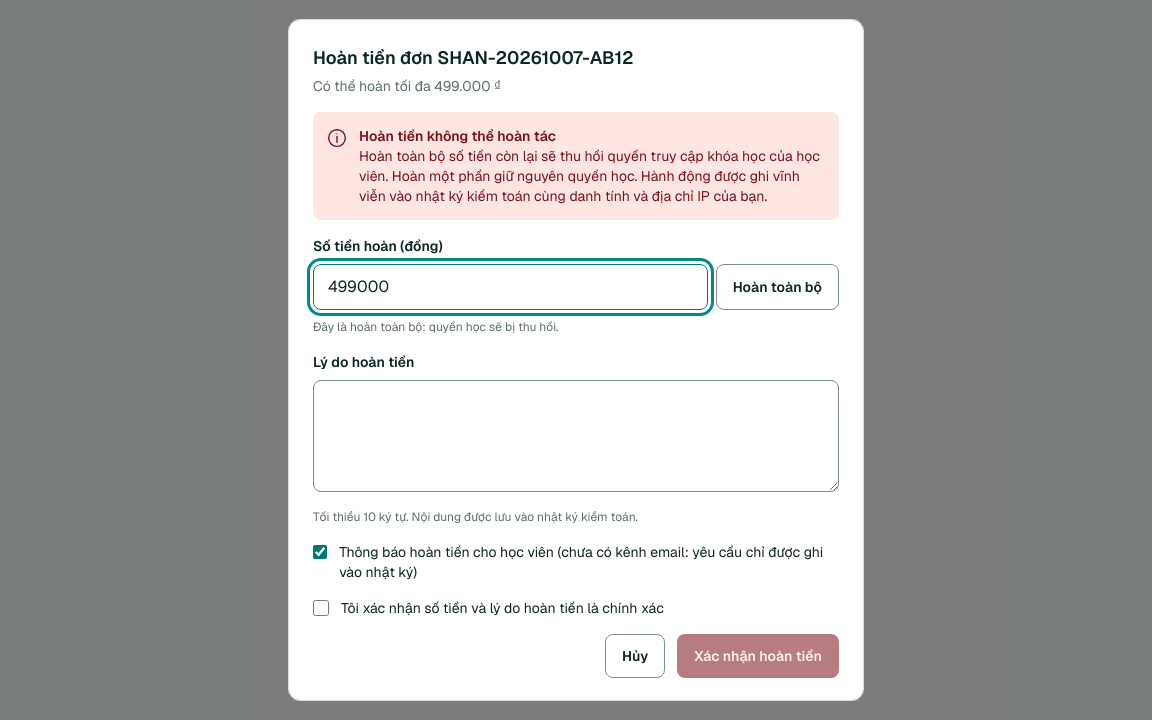
it: RefundModal › sends the amount, reason and notification choice
The width and height of the screenshot is (1152, 720).
Replace the text in the field labelled "Số tiền hoàn (đồng)" with "250000": (510, 287) [313,264,708,310]
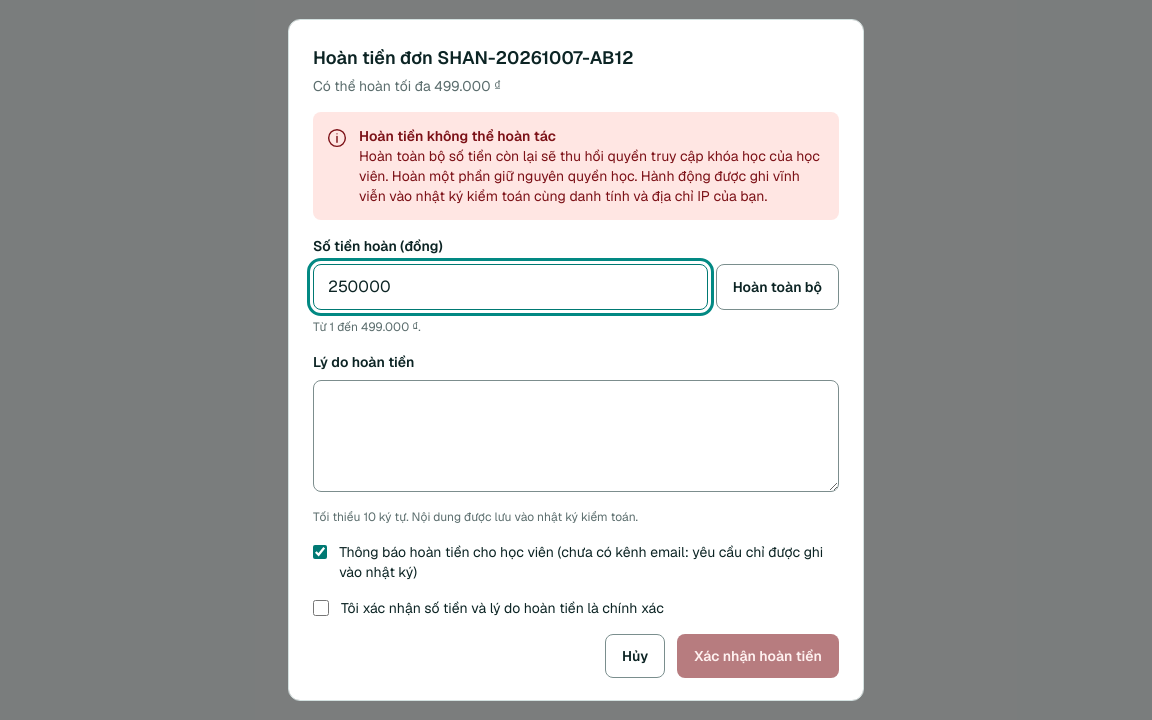
In the text box labelled "Lý do hoàn tiền": (576, 436) [313,380,839,492], type "  Hoàn một phần theo chính sách  "
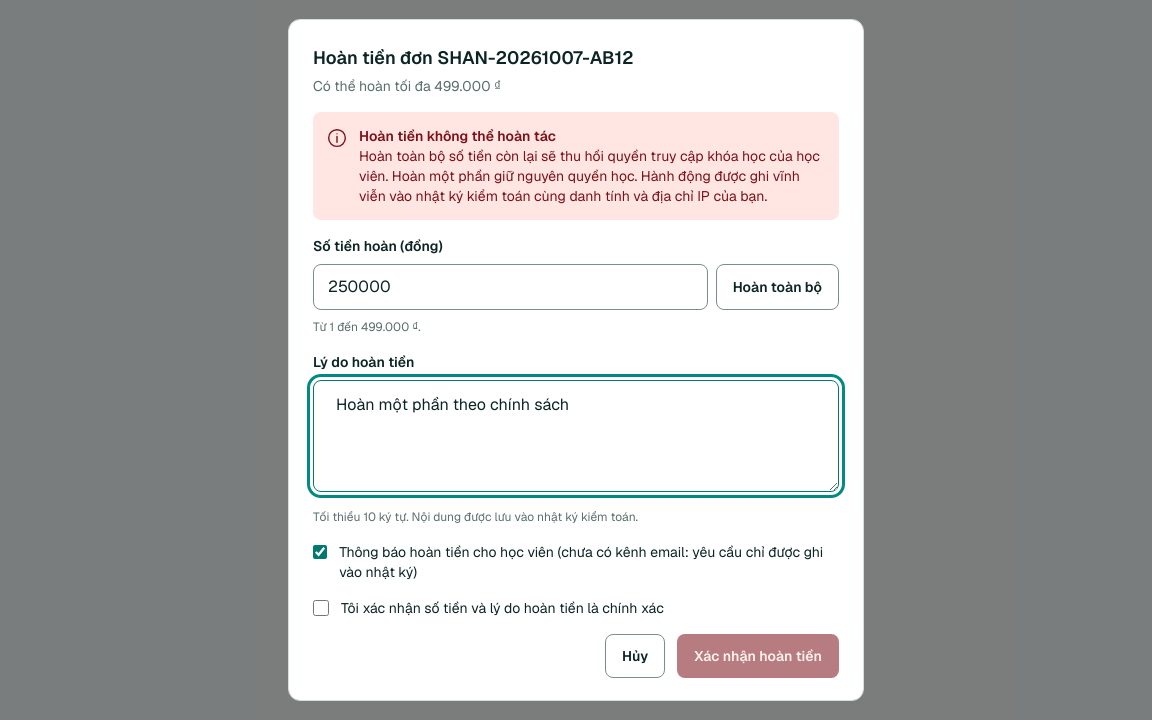
Click the checkbox labelled "Thông báo hoàn tiền cho học viên": click(320, 552) [313,544,327,560]
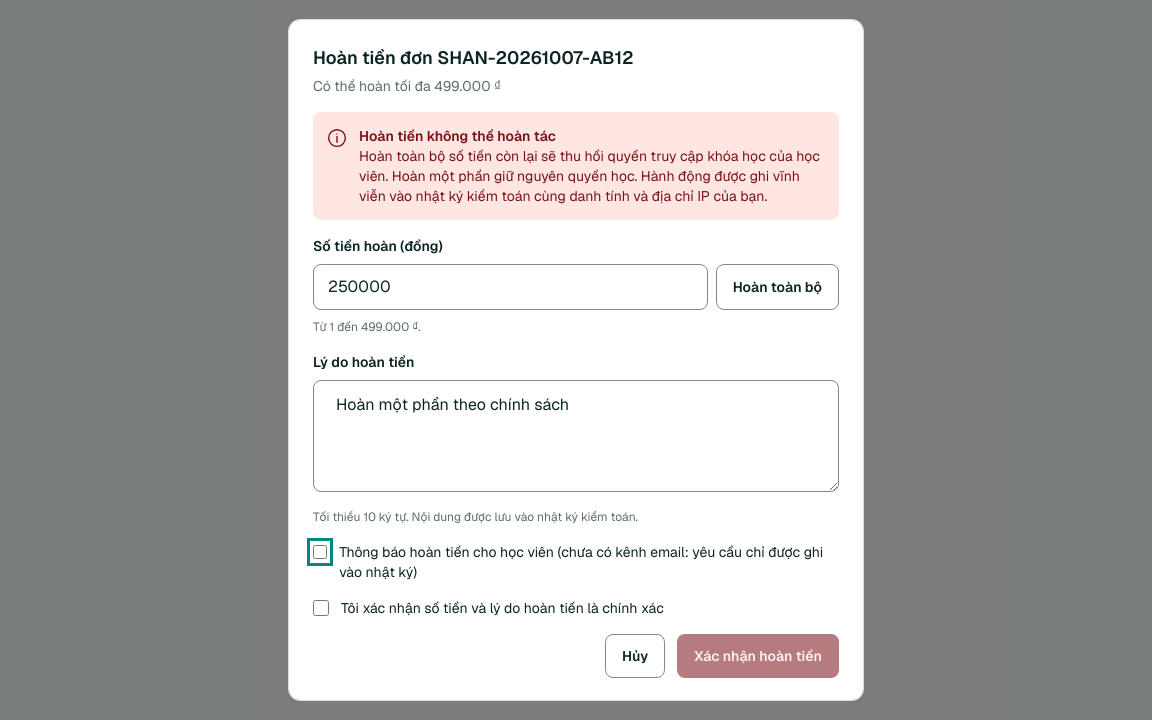
Click the checkbox labelled "Tôi xác nhận số tiền và lý do hoàn tiền là chính xác": click(321, 608) [313,600,329,616]
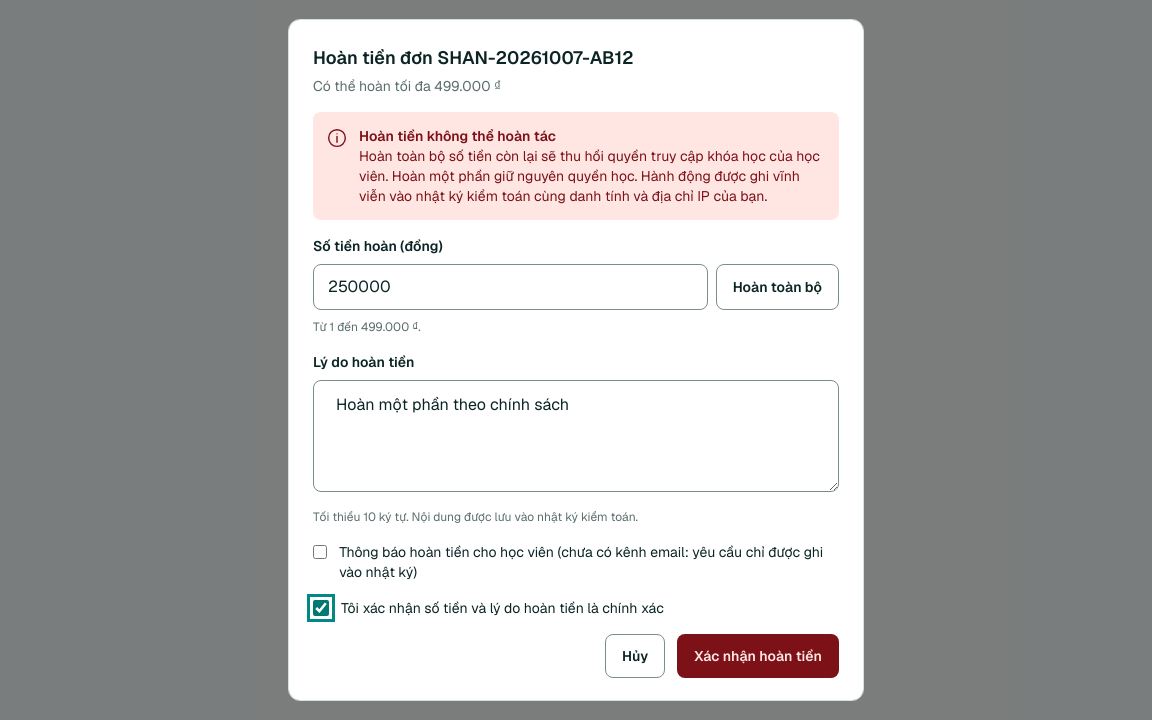
Click the button "Xác nhận hoàn tiền": click(758, 656) [677,634,839,678]
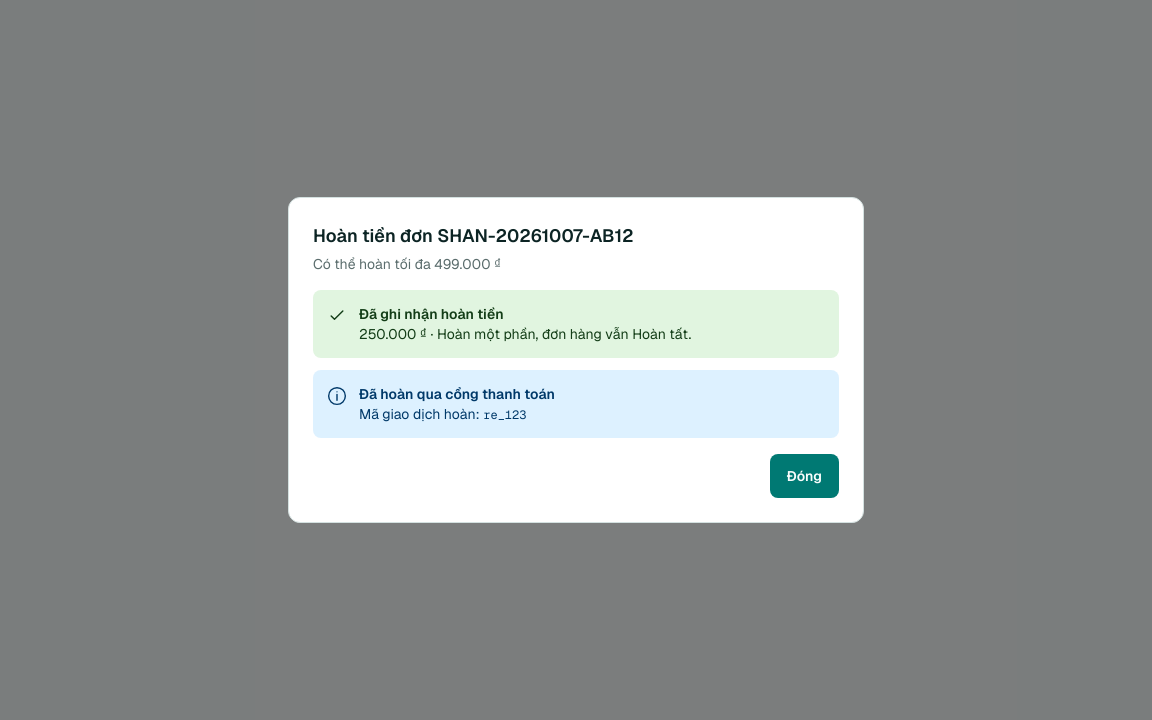
Result: the text "Đã ghi nhận hoàn tiền" is shown at [359,305,504,323]
Result: the text "Hoàn một phần, đơn hàng vẫn Hoàn tất" is shown at [437,325,691,343]
Result: the text "Đã hoàn qua cổng thanh toán" is shown at [359,384,555,404]
